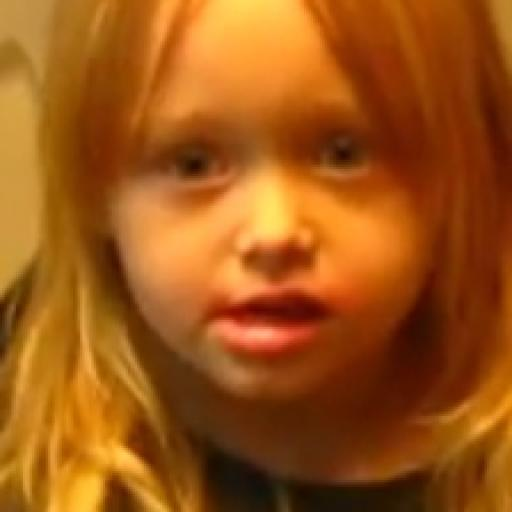Autism: (45, 0, 509, 427)
